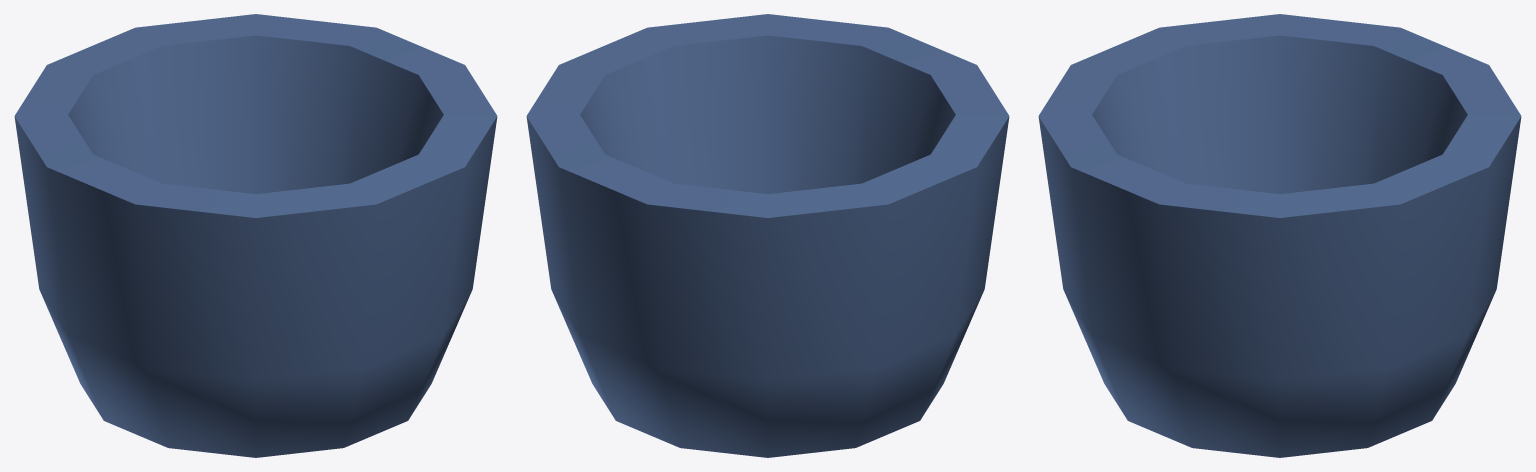
File: Cup_A.fbx
3 views of the same model, side by side, from view 1: azimuth 30°, elevation 25°; view 2: azimuth 150°, elevation 25°; view 3: azimuth 270°, elevation 25° (orthographic).
Visible parts, largest first — view 1: Cup_A; view 2: Cup_A; view 3: Cup_A.
Boxes of the visible parts, x1,y1,x2,y2 form: Cup_A: (14, 14, 497, 457); Cup_A: (526, 14, 1009, 457); Cup_A: (1038, 14, 1521, 457).
Bounding box in the file's own units: 17.75 × 10.91 × 17.75.
